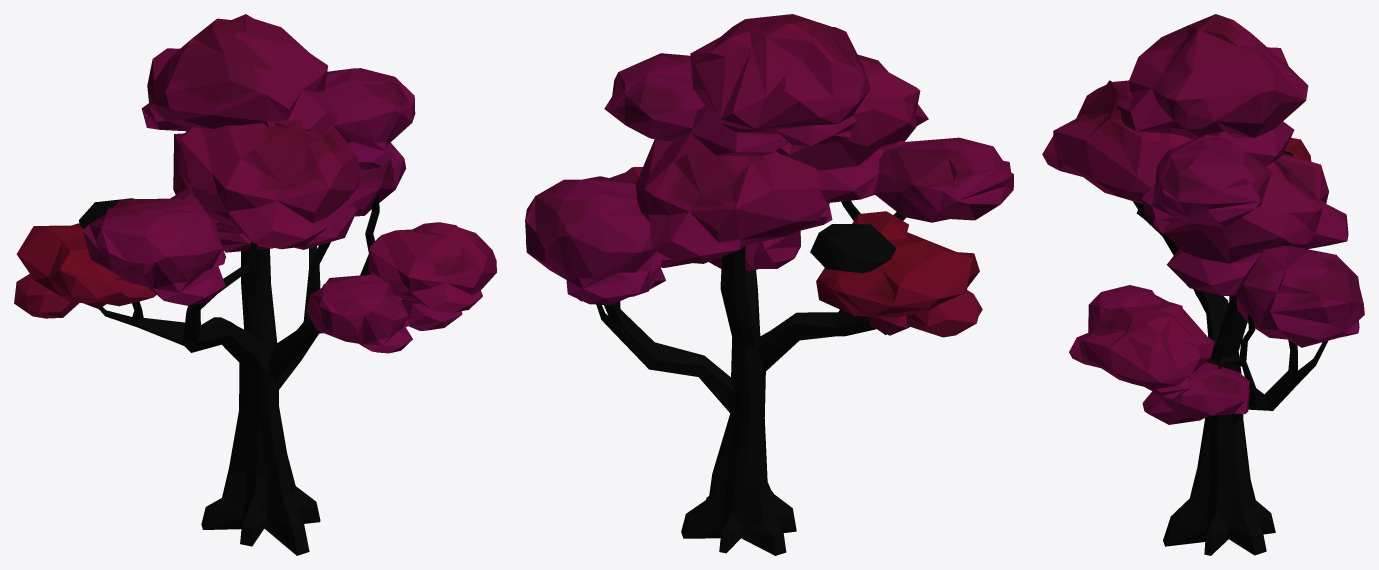
The model's file is SM_Env_Tree_04.glb.
The picture shows the model from 3 angles, left to right: view 1: azimuth 30°, elevation 25°; view 2: azimuth 150°, elevation 25°; view 3: azimuth 270°, elevation 25°; orthographic projection. The views are drawn at different scales.
Parts seen in each view (by area): view 1: SM_Env_Tree_04; view 2: SM_Env_Tree_04; view 3: SM_Env_Tree_04.
Boxes of the visible parts, x1,y1,x2,y2 form: SM_Env_Tree_04: [14, 14, 496, 555]; SM_Env_Tree_04: [525, 14, 1013, 555]; SM_Env_Tree_04: [1042, 14, 1364, 555].
Size of the model in its own units: 1202 by 1398 by 818.
Materials: 1 (1 with a texture image).
